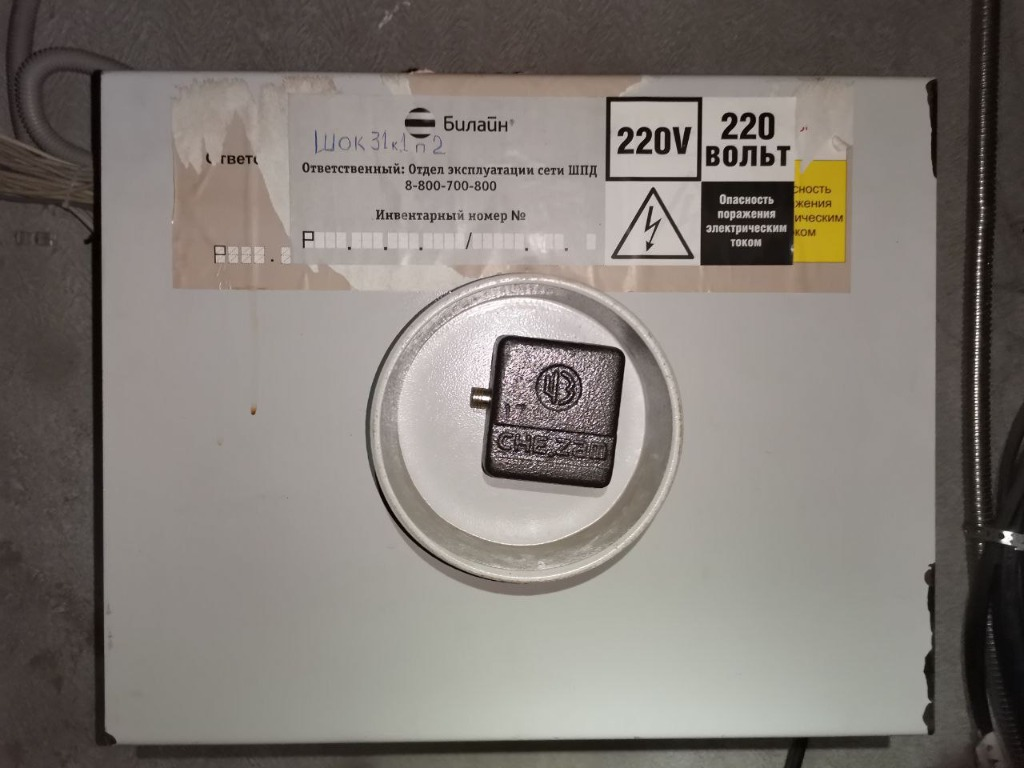shta-3: (93, 66, 943, 743)
